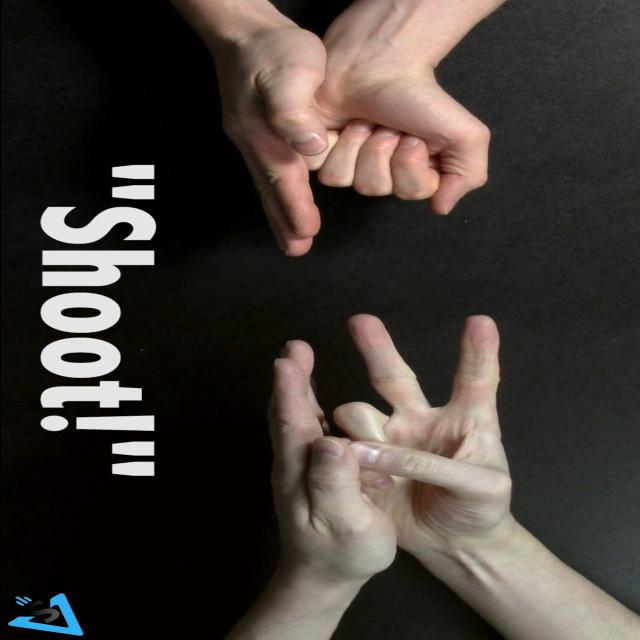Rock: (298, 74, 494, 219)
Scissors: (346, 312, 521, 554)
